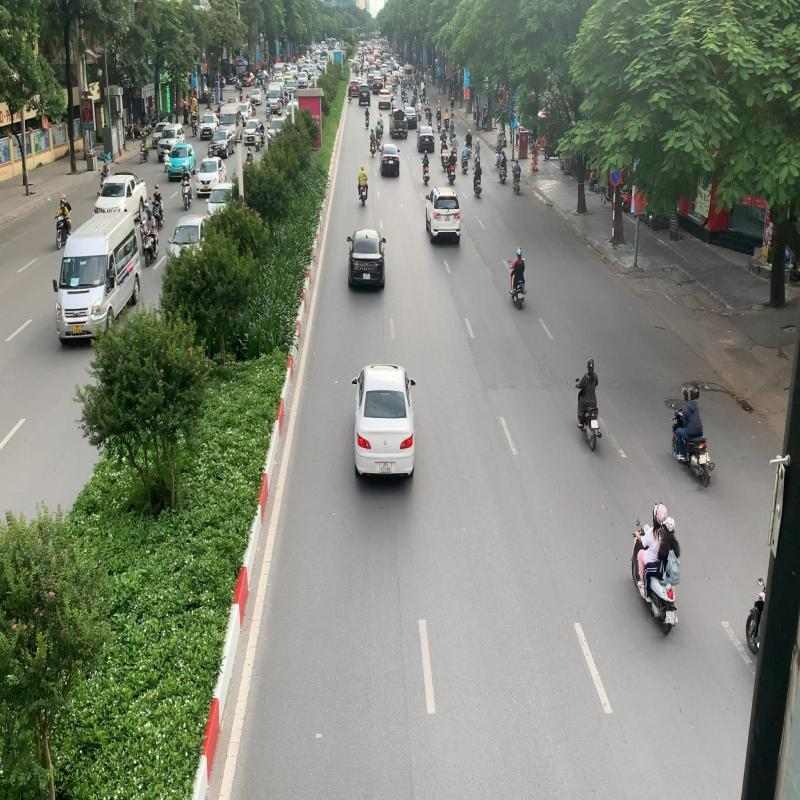helmet: (655, 501, 668, 524), (662, 518, 676, 534), (688, 383, 700, 400), (587, 357, 594, 368)
licenseplate: (665, 610, 676, 626), (698, 454, 707, 464), (592, 419, 600, 428)
motorcyclist: (628, 502, 684, 636), (666, 381, 714, 490), (575, 356, 602, 452)
